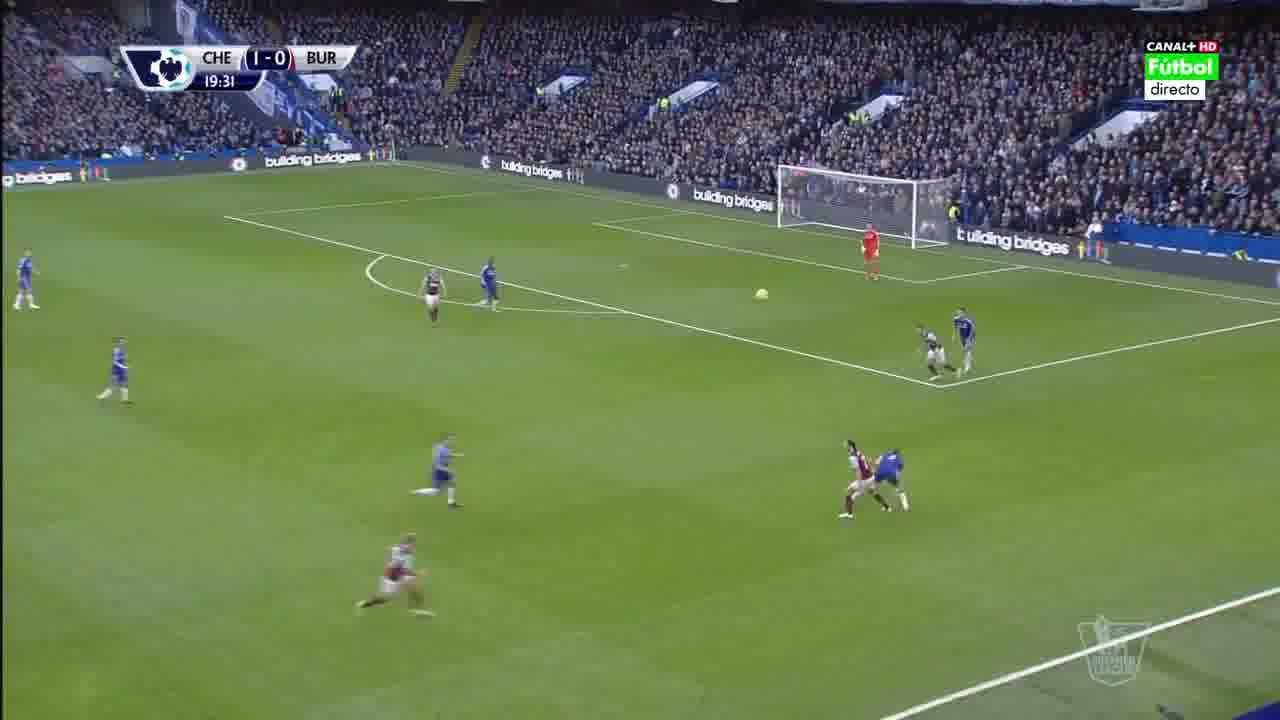football: (752, 288, 769, 302)
